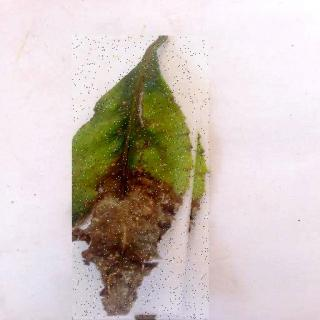Brown Blight: (73, 37, 211, 320)
